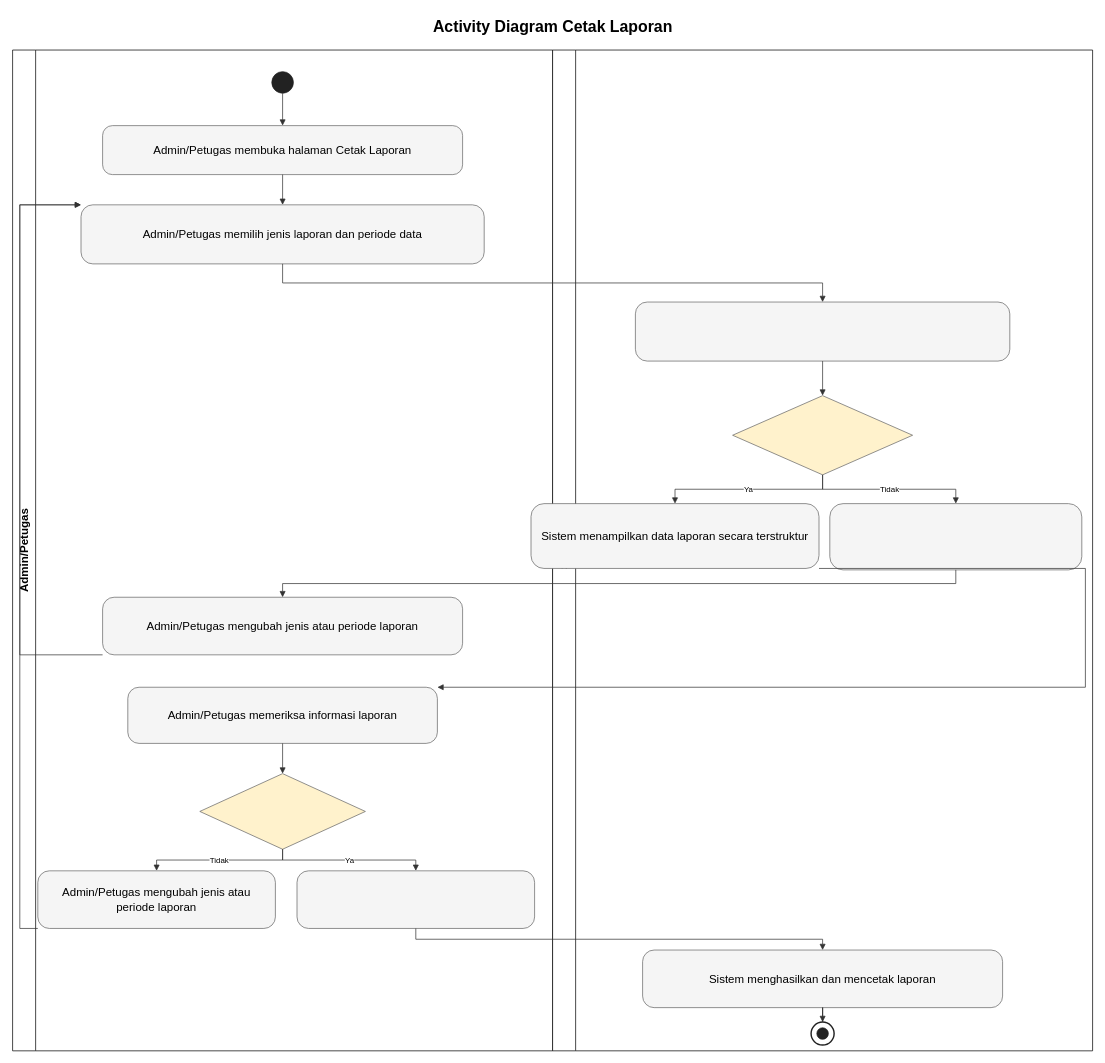
Some shapes in this 1105 by 1063 pixel diagram are drawn without their labels. The shapes that lost their labels are listed below. From the top down, each one's centre as x and y in pixels, then its label:
At [822,331]: "Sistem mengambil data pembayaran pajak dan hasil prediksi".
At [822,435]: "Data sesuai parameter tersedia?".
At [955,536]: "Sistem menampilkan pesan data laporan tidak tersedia".
At [282,811]: "Data laporan sesuai?".
At [415,899]: "Admin/Petugas memilih fungsi Cetak".
